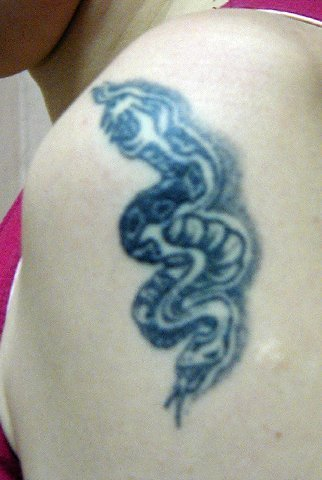tatu7_zmeya: (72, 69, 289, 412)
